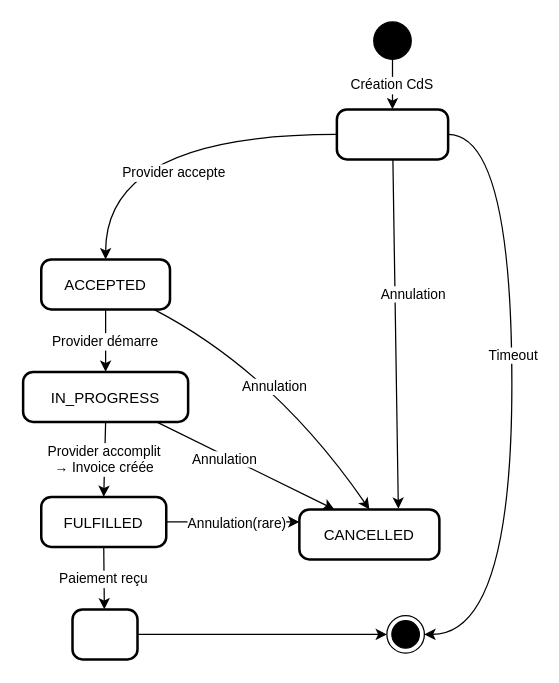
Some shapes in this 559 by 683 pixel diagram are drawn without their labels. The shapes that lost their labels are listed below. From the top down, each one's box as (x1, y1, x2, y2) in pixels, then its label:
(335, 108, 449, 160): PENDING
(71, 608, 138, 660): PAID
